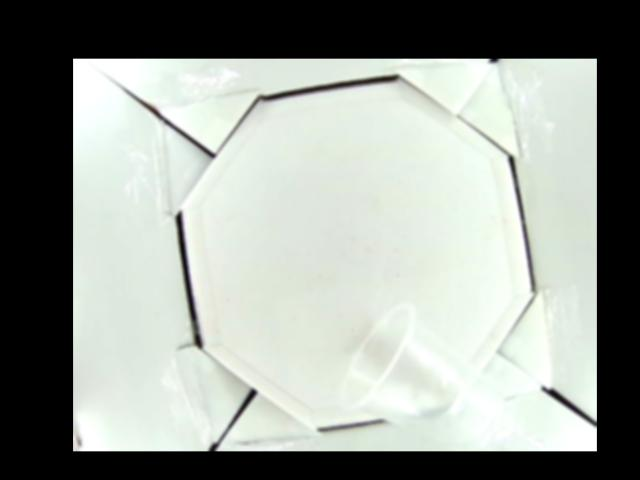Cup: (339, 302, 505, 447)
